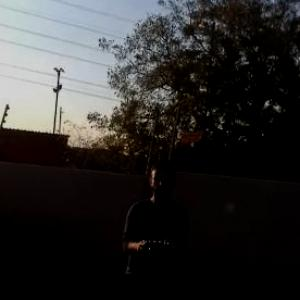follow: (114, 152, 195, 299)
